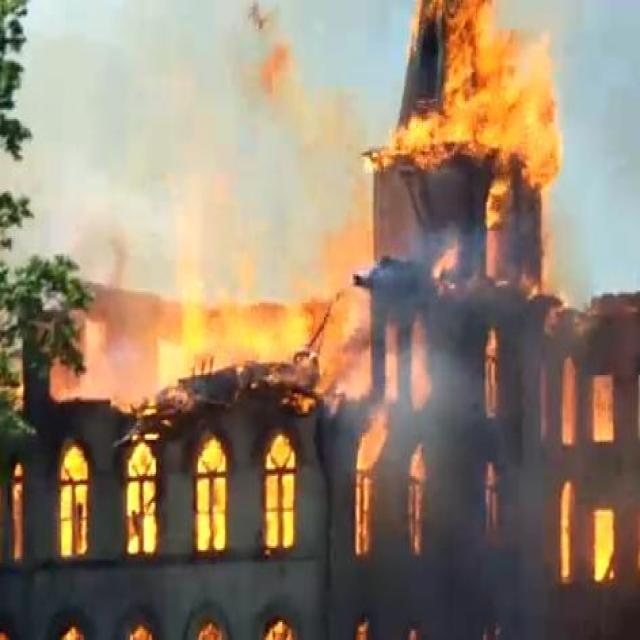Fire: (391, 0, 564, 199), (175, 252, 332, 388), (356, 418, 432, 548), (182, 428, 227, 568), (260, 428, 302, 578), (54, 443, 102, 570), (121, 437, 157, 572), (549, 482, 584, 584), (558, 360, 588, 454), (486, 324, 512, 432), (585, 371, 621, 448), (586, 506, 616, 593)
Smoke: (156, 85, 366, 302), (60, 319, 156, 412), (362, 326, 440, 424)
